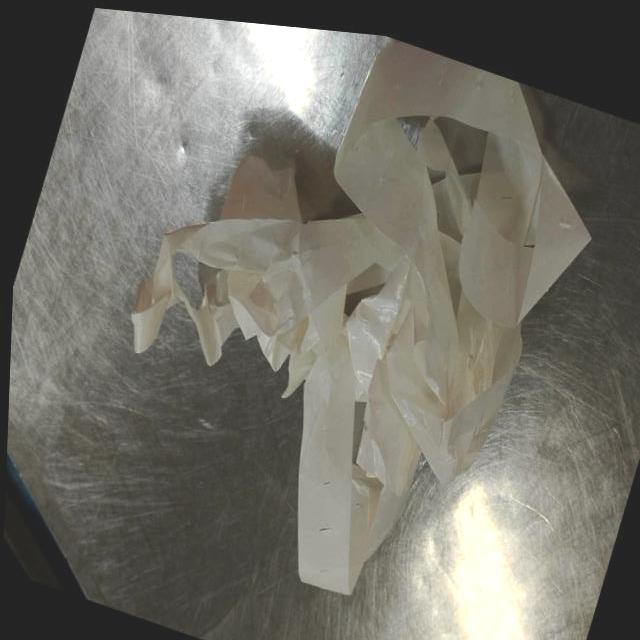Infectious: (128, 39, 589, 596)
